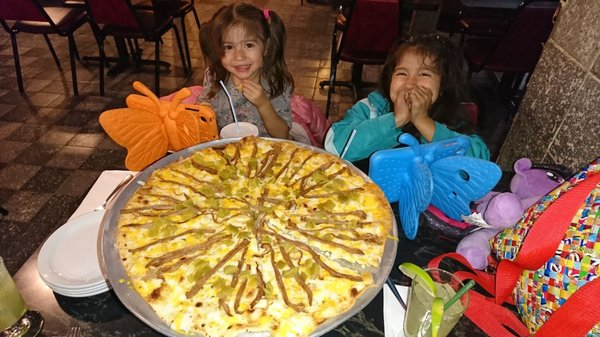pizza: (220, 122, 259, 141)
